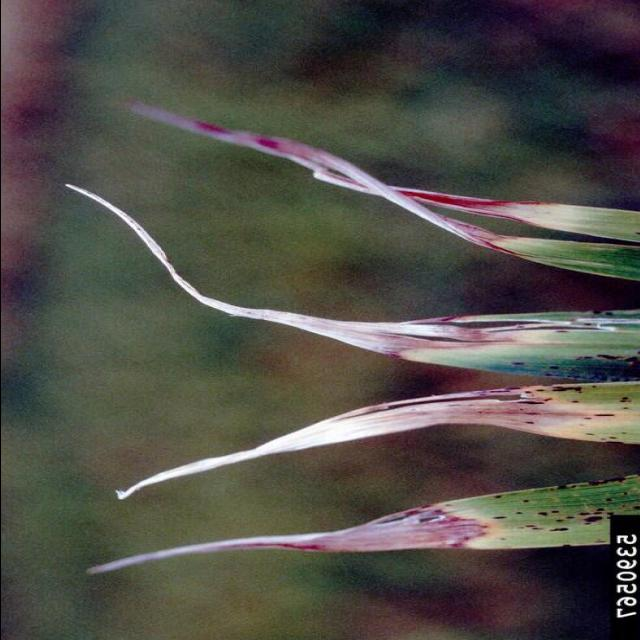Bacterial leaf blight: (66, 186, 572, 371), (124, 385, 621, 496), (141, 113, 501, 247), (88, 491, 571, 570), (272, 156, 553, 225)
